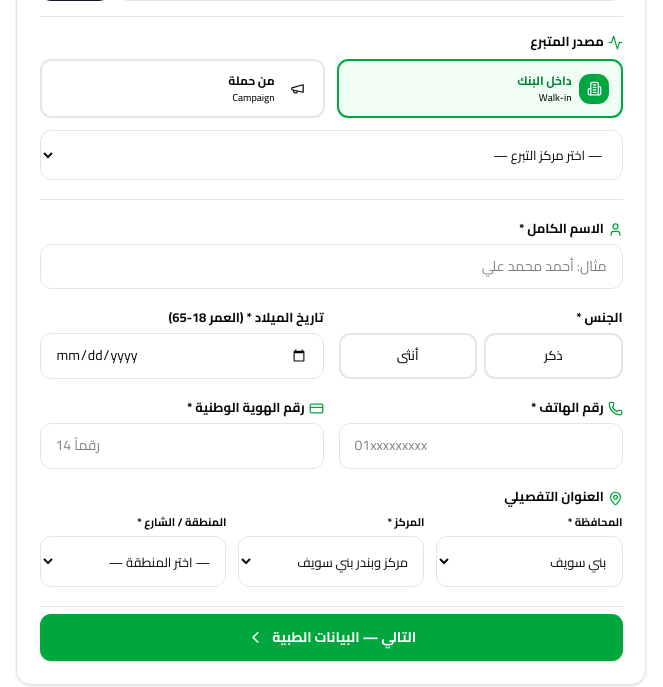
Test case: DonationRegistrationForm Component › Step 1 - Basic Information Flow › displays validation errors when fields are empty and user clicks next
(page scrolled)
Click the button "التالي — البيانات الطبية" at (331, 638), box [40,614,622,661]
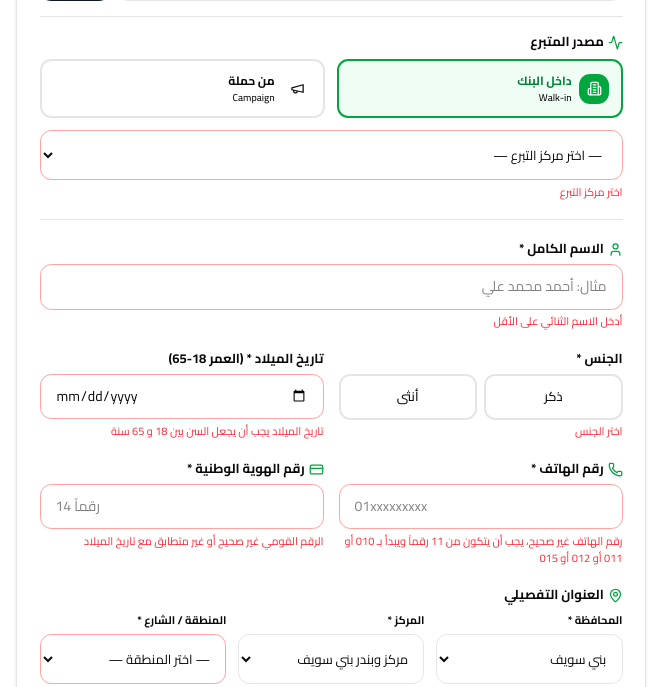
Expected: the text "أدخل الاسم الثنائي على الأقل" is shown, [494,311,622,331]
Expected: the text "رقم الهاتف غير صحيح، يجب أن يتكون من 11 رقماً ويبدأ بـ 010 أو 011 أو 012 أو 015" is shown, [338,533,622,566]
Expected: the text "الرقم القومي غير صحيح أو غير متطابق مع تاريخ الميلاد" is shown, [84,531,324,551]
